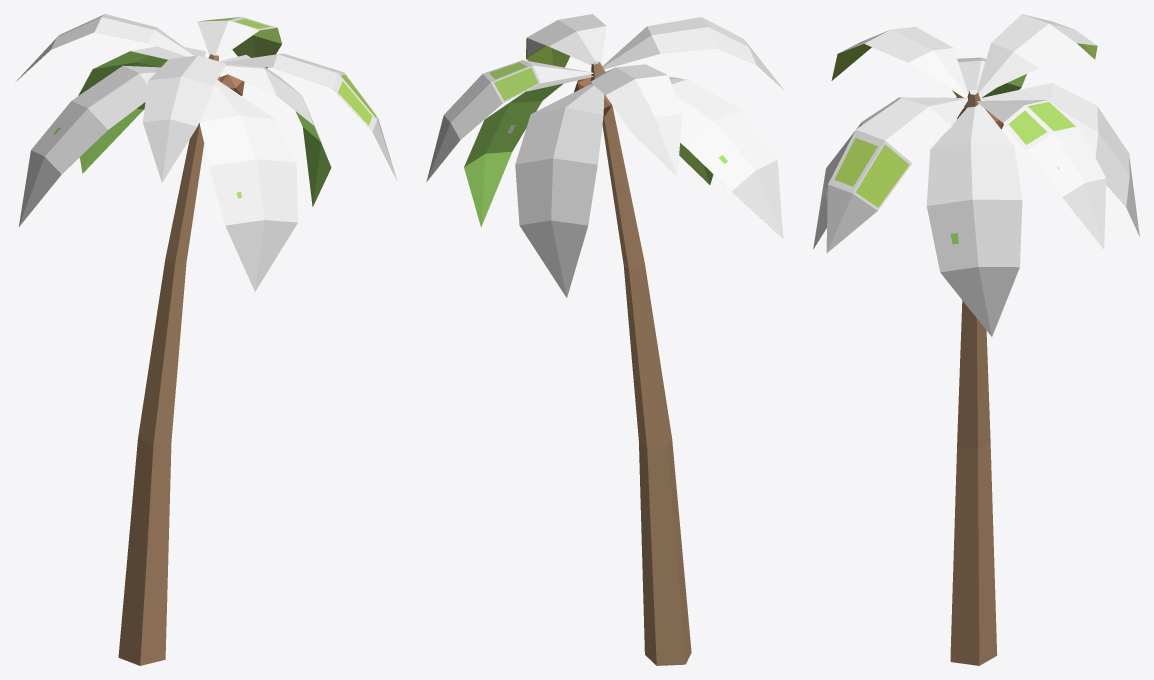
The model's file is Palm_Tree_Coconut_m_Snow_BT_02.fbx.
The picture shows the model from 3 angles, left to right: view 1: azimuth 30°, elevation 25°; view 2: azimuth 150°, elevation 25°; view 3: azimuth 270°, elevation 25°; orthographic projection. The views are drawn at different scales.
Visible parts, largest first — view 1: Palm_Tree_Coconut_m_Snow_BT_02; view 2: Palm_Tree_Coconut_m_Snow_BT_02; view 3: Palm_Tree_Coconut_m_Snow_BT_02.
Boxes of the visible parts, box(x1,y1,x2,y2) form: Palm_Tree_Coconut_m_Snow_BT_02: box(16, 14, 397, 665); Palm_Tree_Coconut_m_Snow_BT_02: box(426, 14, 783, 665); Palm_Tree_Coconut_m_Snow_BT_02: box(813, 14, 1139, 665).
Size of the model in its own units: 334 by 630 by 296.
